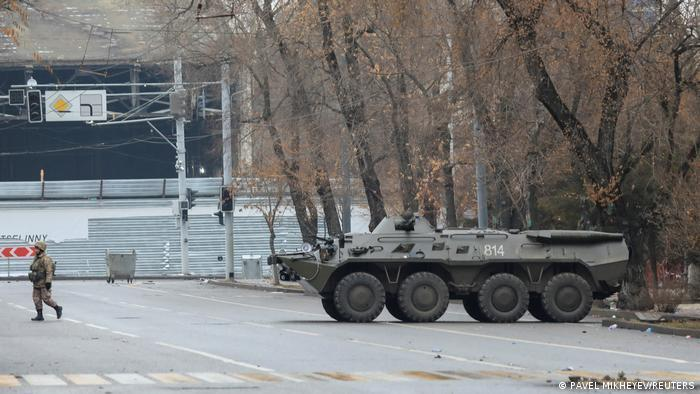person: (26, 242, 60, 328)
tank: (271, 210, 634, 320)
